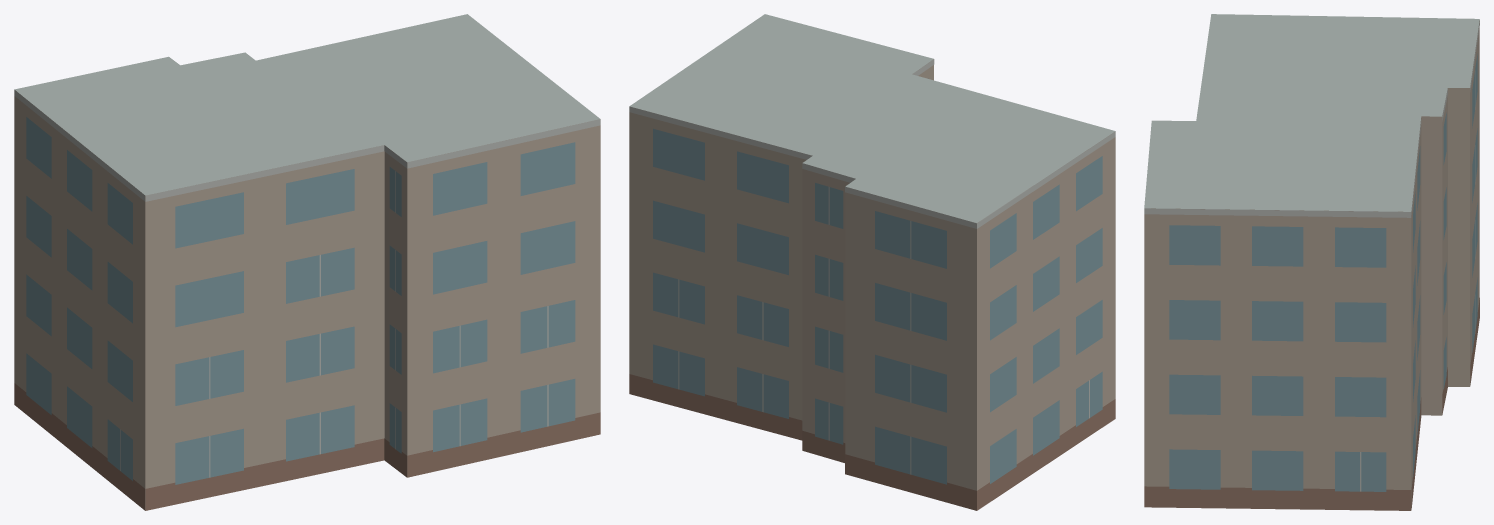
File: survey-upis-32819713.glb
3 renders of one model, left to right at view 1: azimuth 30°, elevation 25°; view 2: azimuth 150°, elevation 25°; view 3: azimuth 270°, elevation 25°, orthographic. The views are drawn at different scales.
Parts seen in each view (by area): view 1: survey-upis-32819713.tmp; view 2: survey-upis-32819713.tmp; view 3: survey-upis-32819713.tmp.
Boxes of the visible parts, x1=… form: survey-upis-32819713.tmp: x1=14, y1=14, x2=600, y2=510; survey-upis-32819713.tmp: x1=629, y1=14, x2=1115, y2=510; survey-upis-32819713.tmp: x1=1144, y1=14, x2=1479, y2=510.
Bounding box in the file's own units: 17.33 × 12.2 × 12.42.
